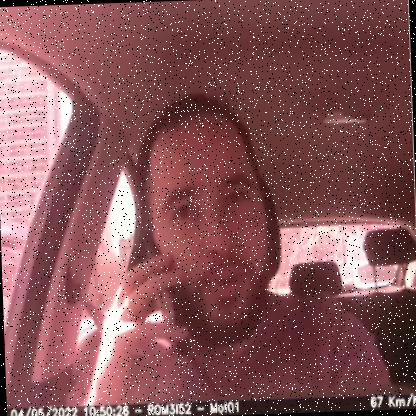phone: (134, 229, 189, 360)
